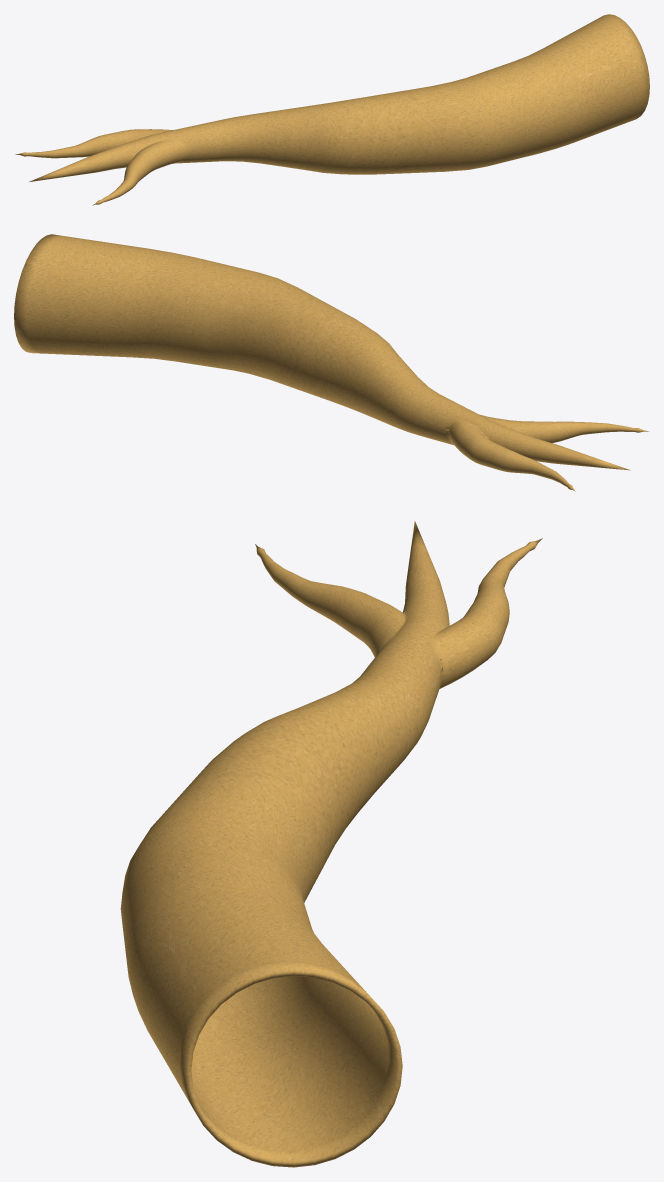
File: koteka-1.glb
3 views of the same model, one above another, from view 1: azimuth 30°, elevation 25°; view 2: azimuth 150°, elevation 25°; view 3: azimuth 270°, elevation 25° (orthographic). The views are drawn at different scales.
Parts seen in each view (by area): view 1: Cone.004.1; view 2: Cone.004.1; view 3: Cone.004.1.
Part boxes in pixels (x1,y1,x2,y2): Cone.004.1: (15,14,649,205); Cone.004.1: (14,234,649,491); Cone.004.1: (120,521,542,1167).
Bounding box in the file's own units: 39 × 6.53 × 12.65.
Materials: 1 (1 with a texture image).
